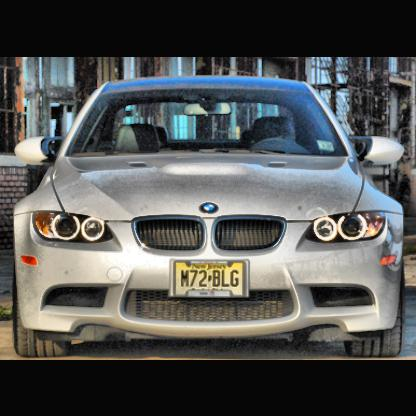BMW M3 Coupe 2012: (14, 79, 407, 360)
